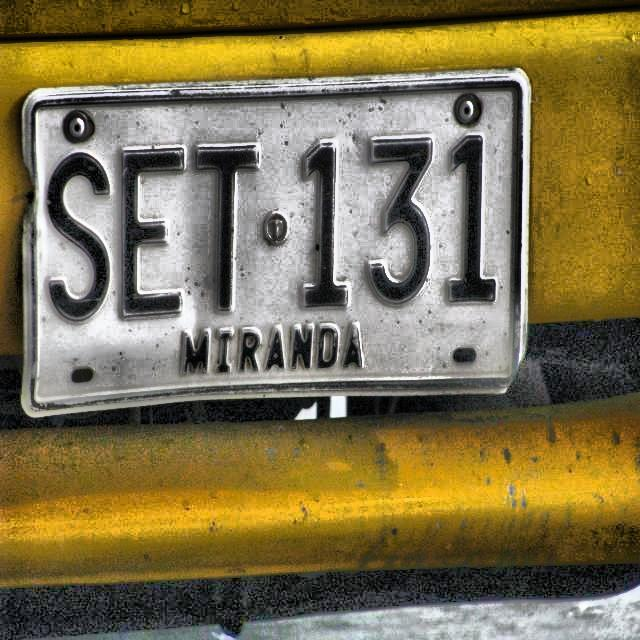plate: (34, 77, 519, 409)
